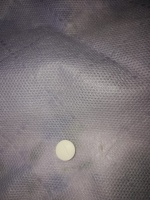Arveles: (53, 138, 76, 162)
